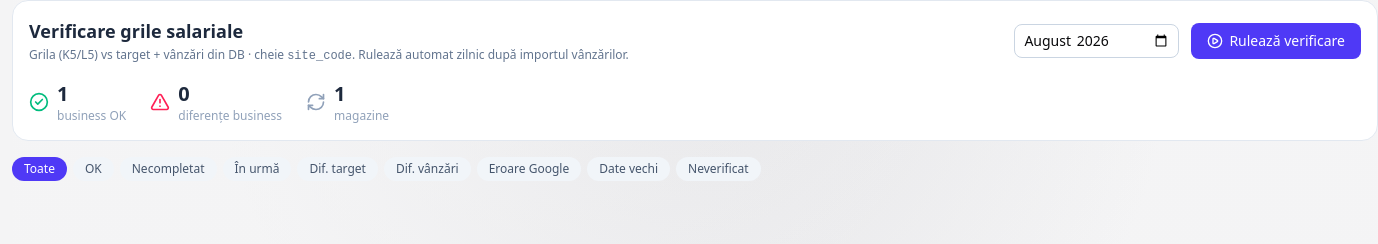
Test: CurrentGrileSubtab run-check error visibility › surfaces actionable 403 ApiError detail to the operator
This screenshot has width=1378, height=244.
Click the button "Rulează verificare": [1276, 40] box [1191,22,1361,58]
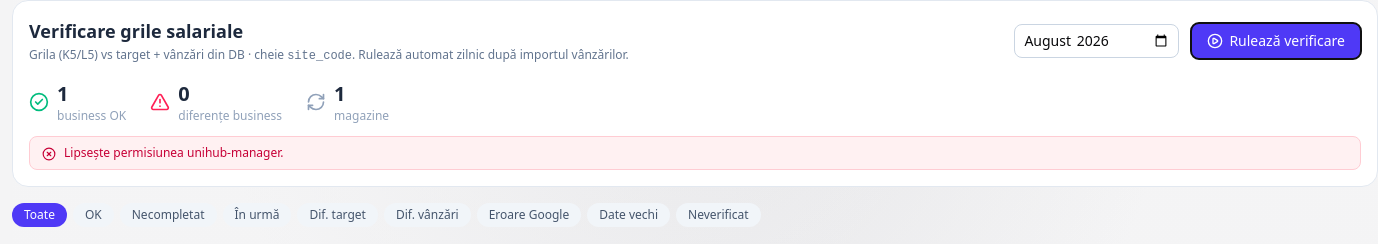
Now the message reads "Lipsește permisiunea unihub-manager.", box [64,144,284,161]
